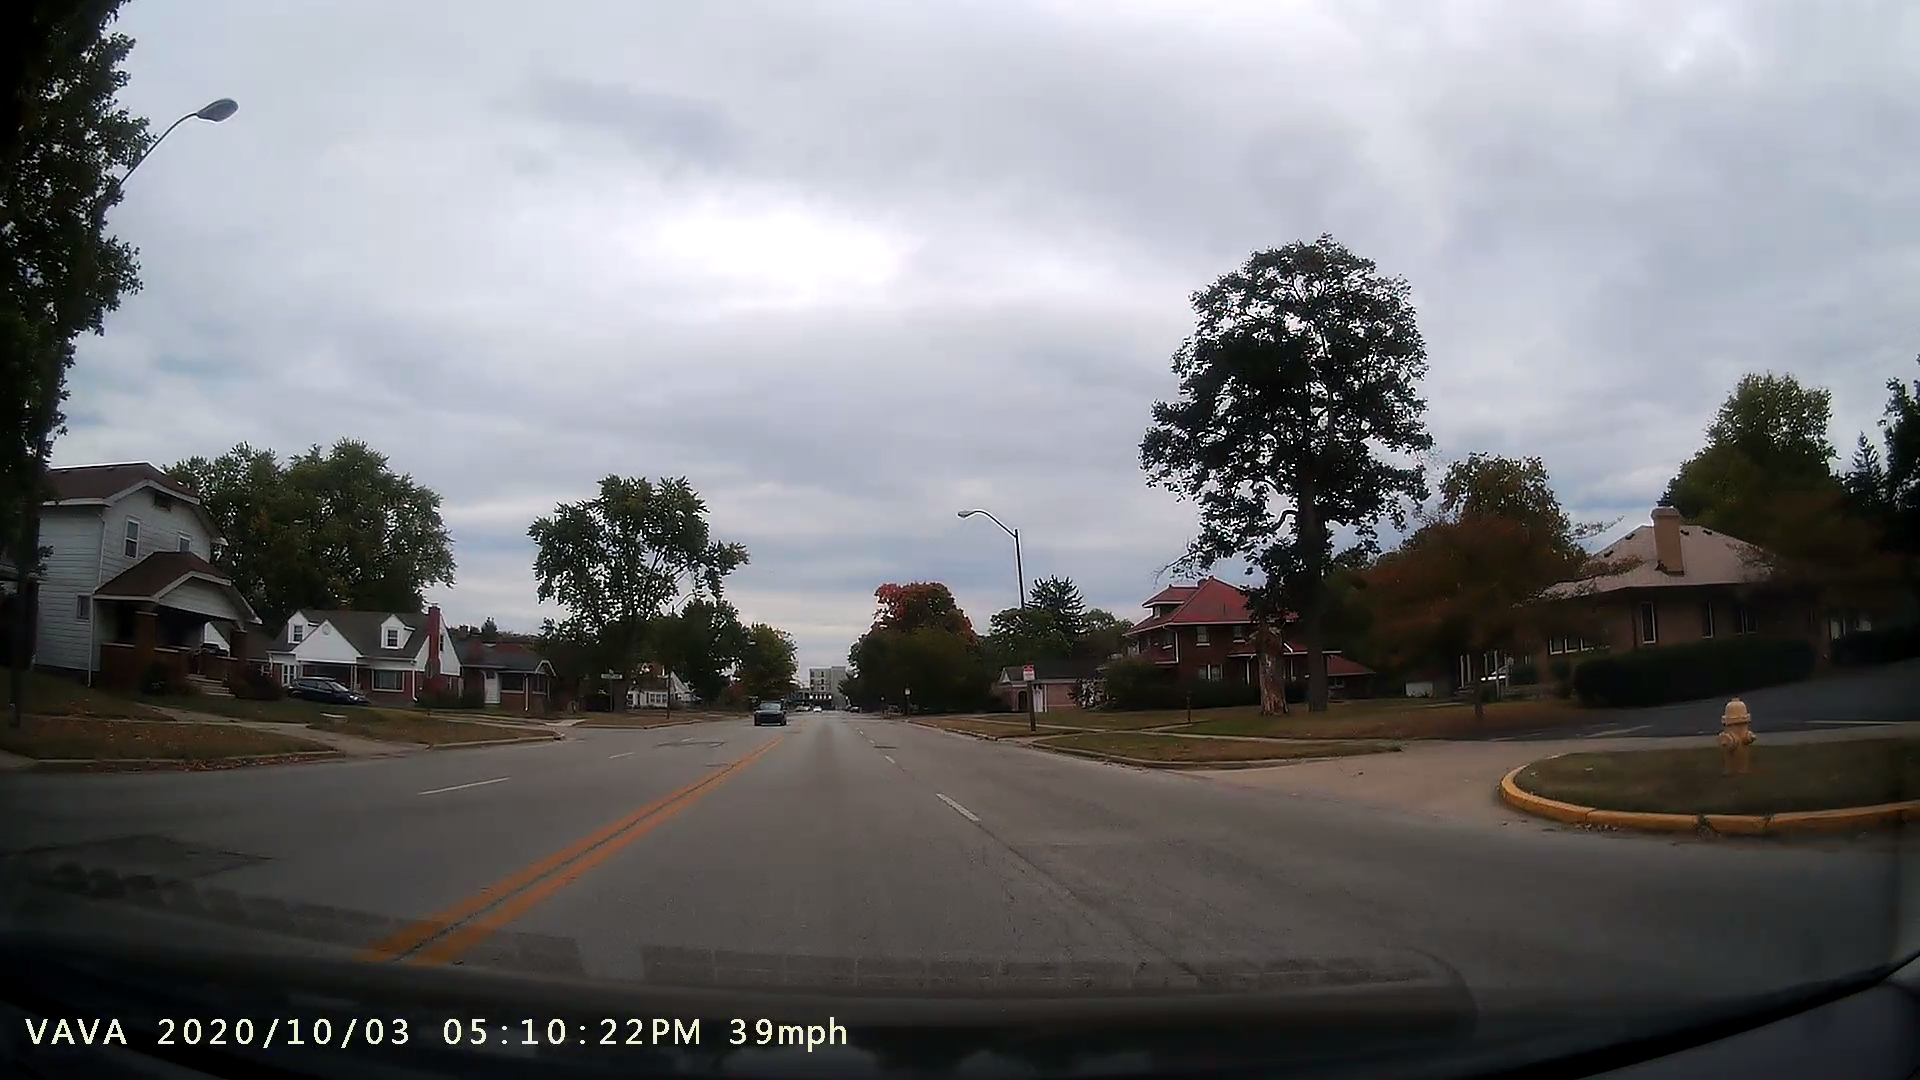fire_hydrant: (1701, 680, 1772, 787)
